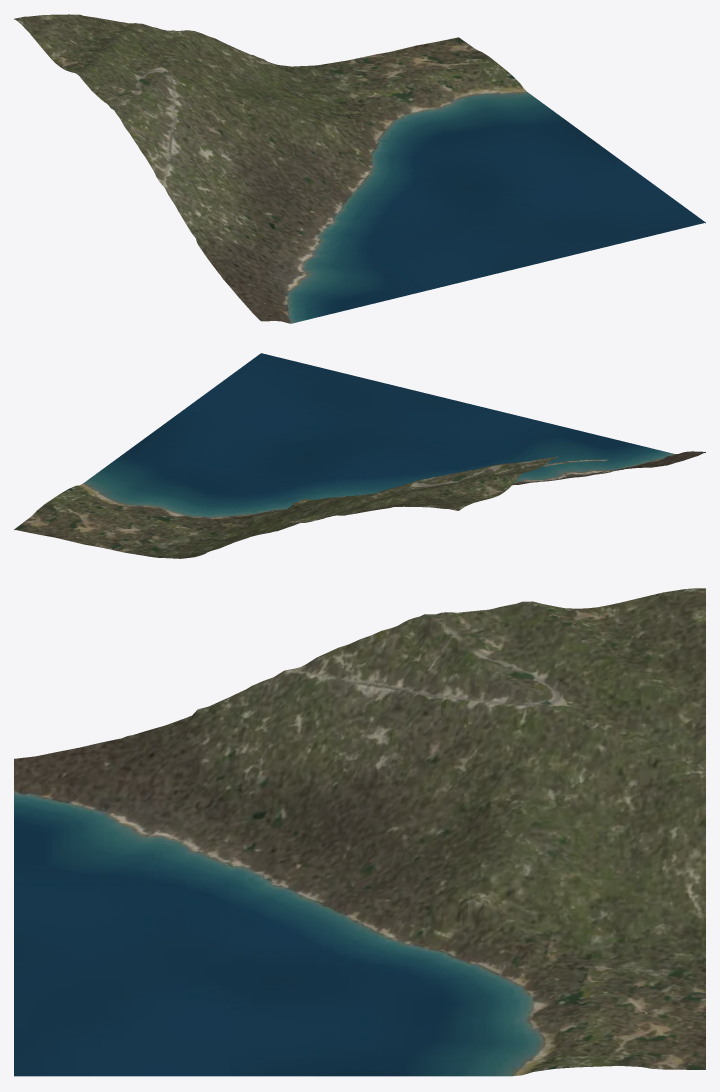
3 views of the same model, one above another, from view 1: azimuth 30°, elevation 25°; view 2: azimuth 150°, elevation 25°; view 3: azimuth 270°, elevation 25° (orthographic). The views are drawn at different scales.
Bounding box in the file's own units: 500 × 142 × 481.
1 material, 1 textured.
